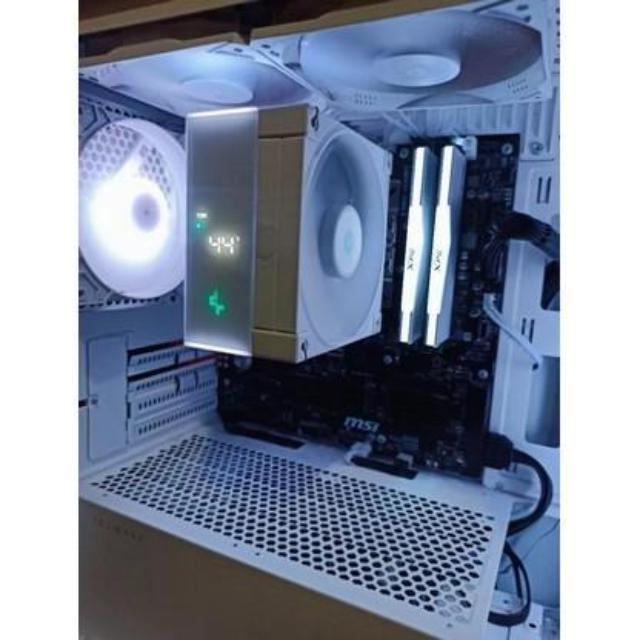CPU_Fan: (184, 109, 390, 366)
